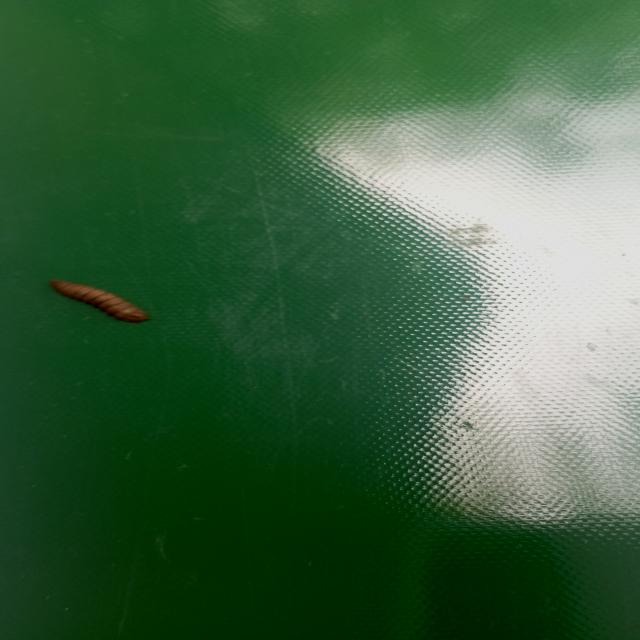Maggot: (49, 280, 149, 325)
